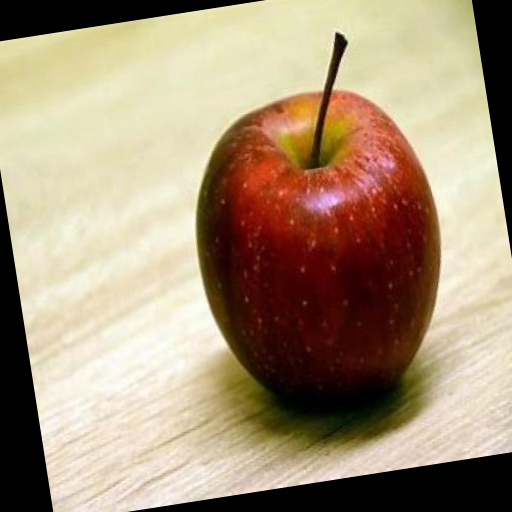fruit: (197, 80, 440, 401)
